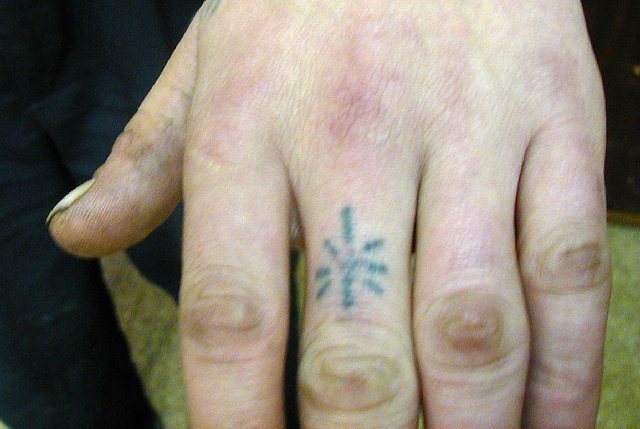tatu9_krest: (331, 247, 368, 293)
